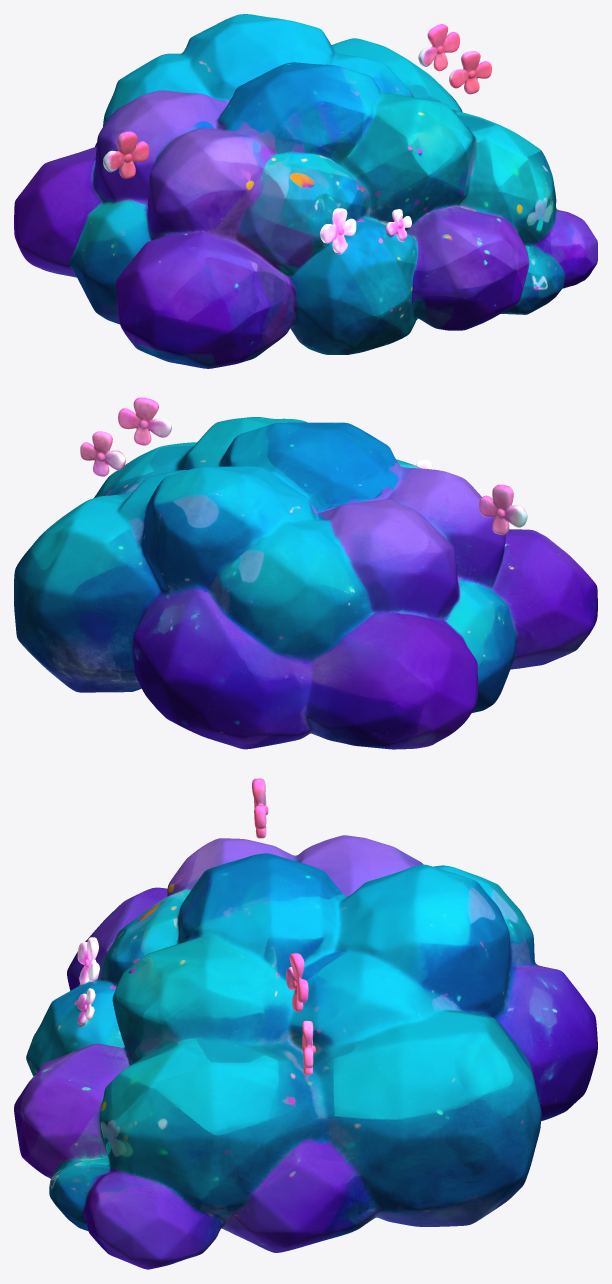
File: Meshy_AI_Azure_Crystal_Hill_wi_0513231029_texture.glb
The picture shows the model from 3 angles, top to bottom: view 1: azimuth 30°, elevation 25°; view 2: azimuth 150°, elevation 25°; view 3: azimuth 270°, elevation 25°; orthographic projection. The views are drawn at different scales.
Bounding box in the file's own units: 1.9 × 0.8657 × 1.69.
1 material, 1 textured.
